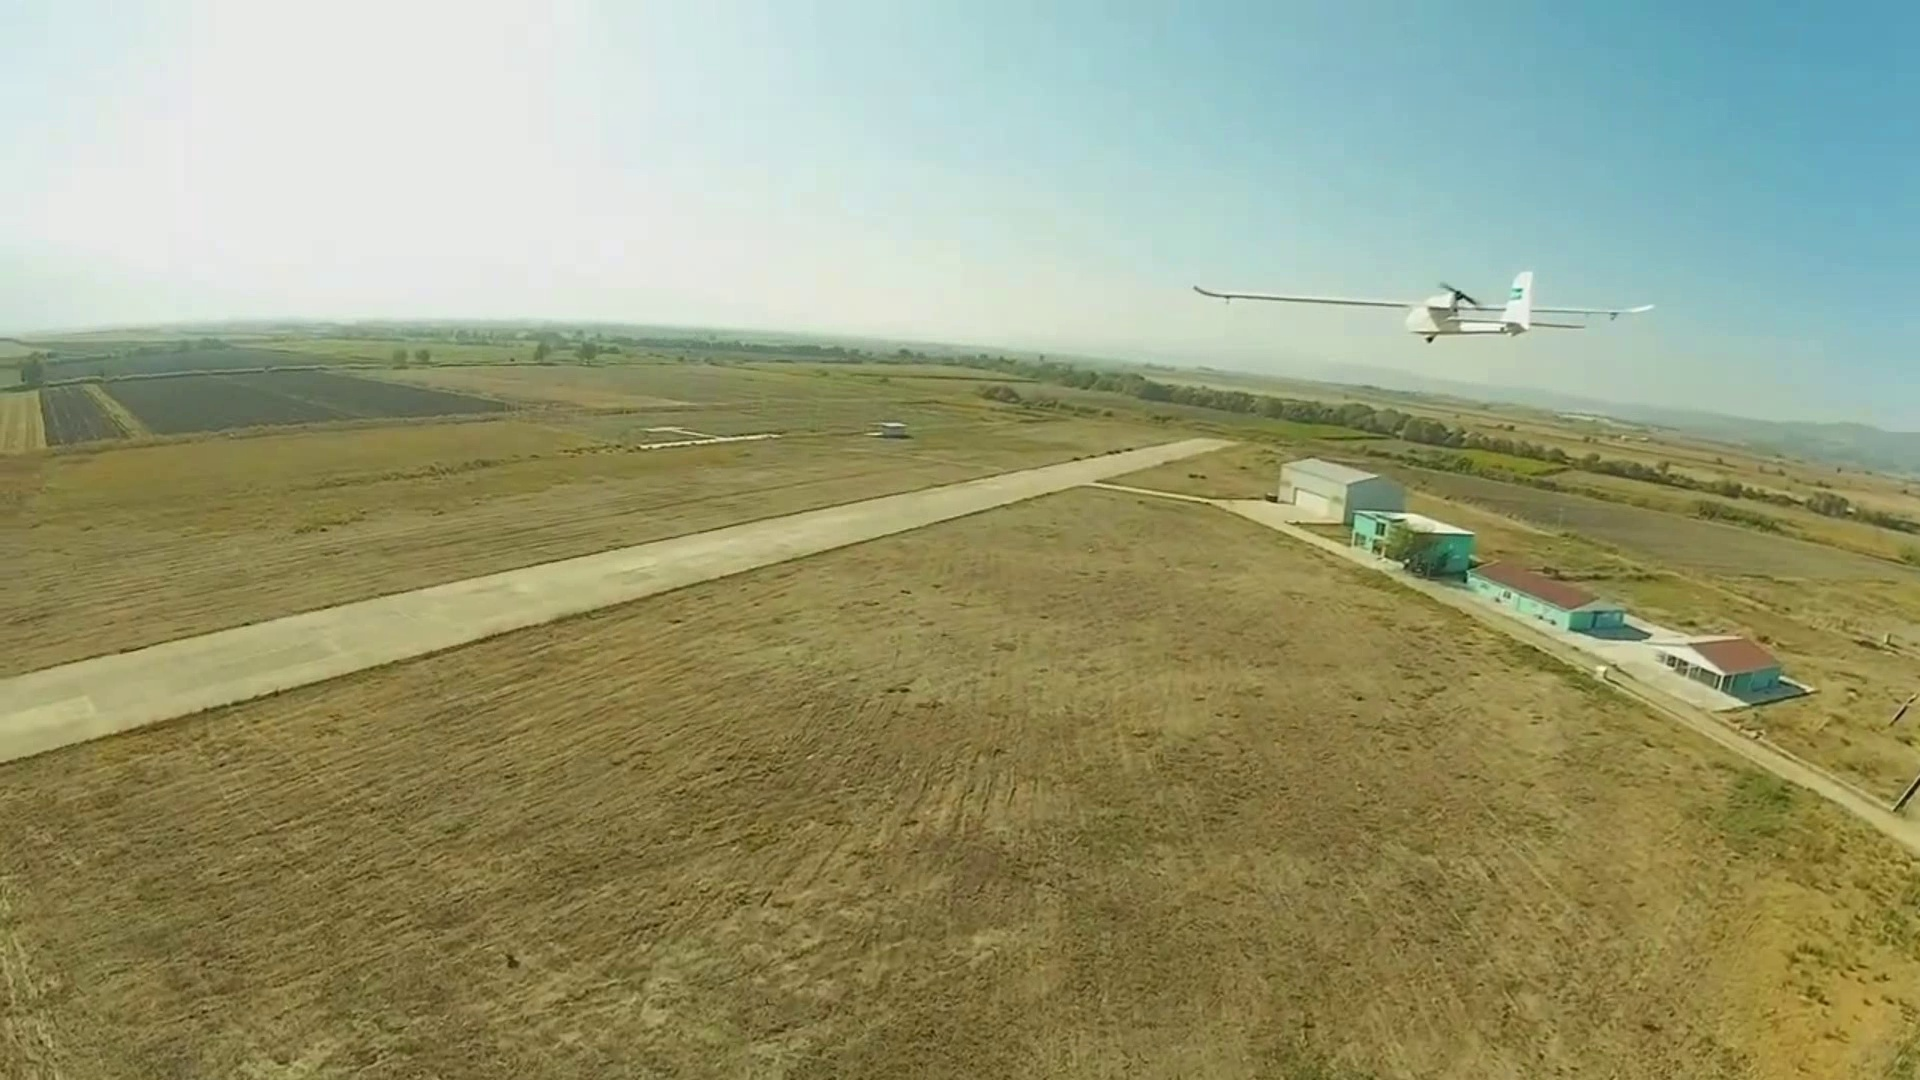airplane: (1191, 271, 1649, 343), (1395, 271, 1652, 343)
